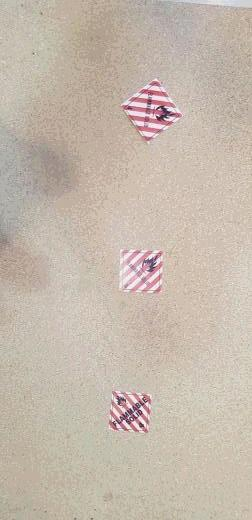flammable-solid: (121, 77, 185, 144), (119, 247, 164, 294), (109, 392, 152, 433)
